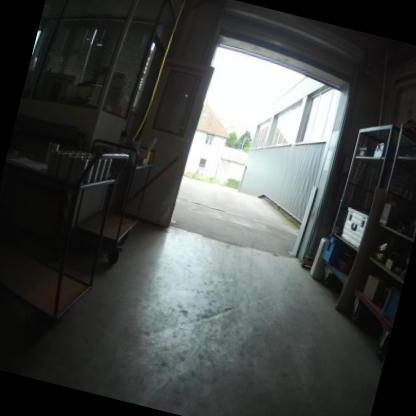small_load_carrier: (382, 286, 401, 322), (322, 233, 341, 262)
